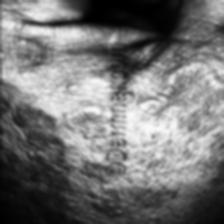Unclassified: (134, 98, 167, 118), (0, 47, 11, 67)
